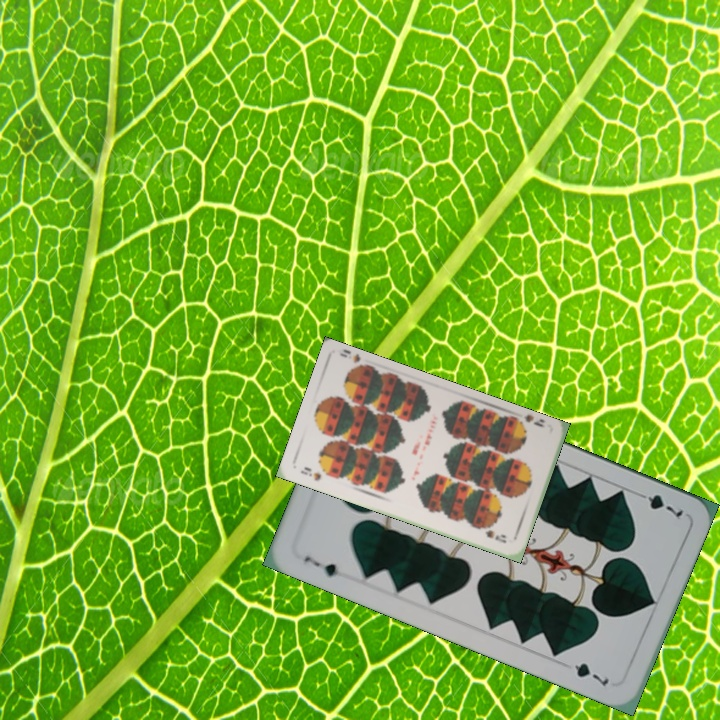G7: (631, 487, 686, 520), (300, 552, 348, 581)
S9: (512, 413, 548, 432), (297, 463, 324, 483)
